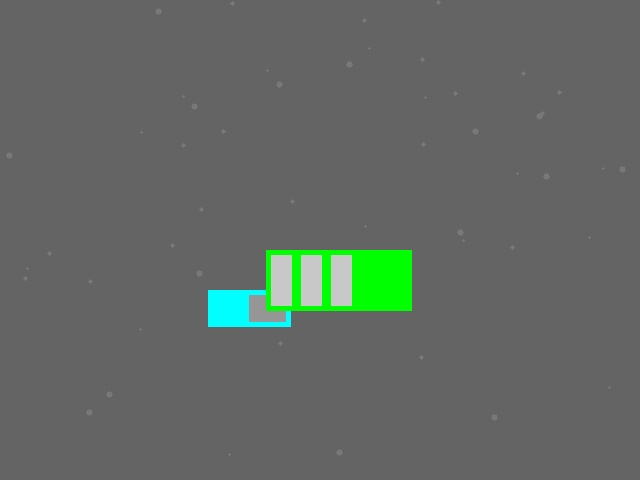bus: (266, 250, 411, 310)
truck: (208, 290, 290, 326)
